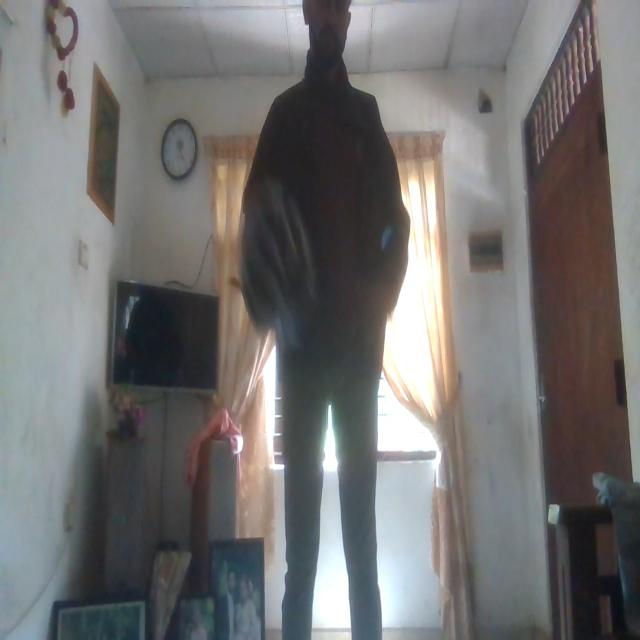Jacket_Wearer: (239, 82, 406, 404)
Person: (236, 0, 409, 640)
